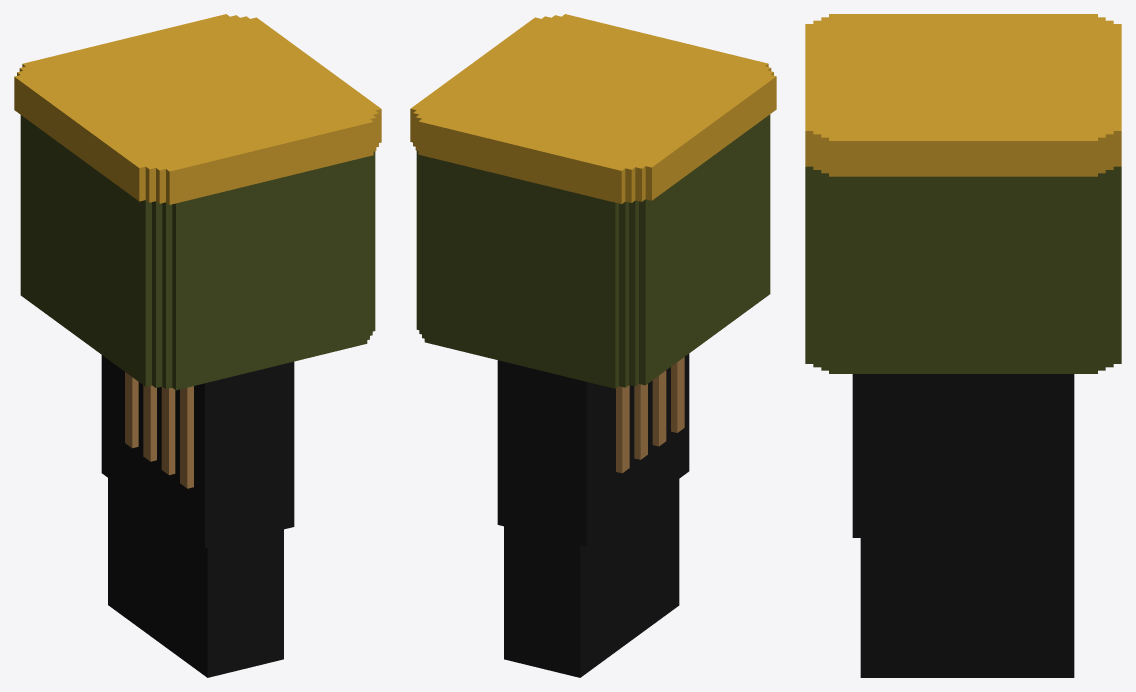
Rendered from gloves_trooper.glb.
The picture shows the model from 3 angles, left to right: view 1: azimuth 30°, elevation 25°; view 2: azimuth 150°, elevation 25°; view 3: azimuth 270°, elevation 25°; orthographic projection. The views are drawn at different scales.
Parts seen in each view (by area): view 1: gloves_trooper:compound; view 2: gloves_trooper:compound; view 3: gloves_trooper:compound.
Part boxes in pixels (<box>): gloves_trooper:compound: <box>14,14,381,677</box>; gloves_trooper:compound: <box>410,14,776,677</box>; gloves_trooper:compound: <box>805,14,1121,677</box>.
Bounding box in the file's own units: 0.152 × 0.324 × 0.16.
